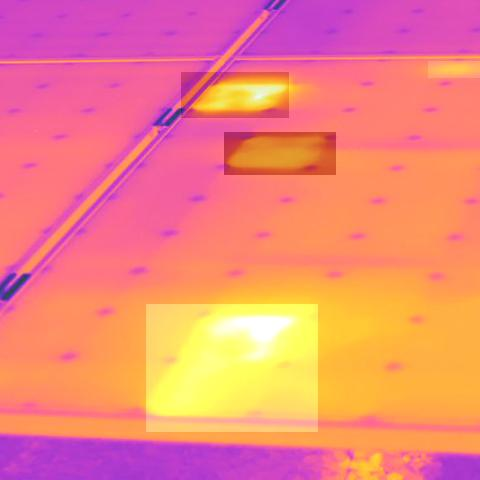fault: (146, 304, 318, 432), (181, 72, 289, 118), (224, 132, 336, 175), (428, 61, 480, 78)
